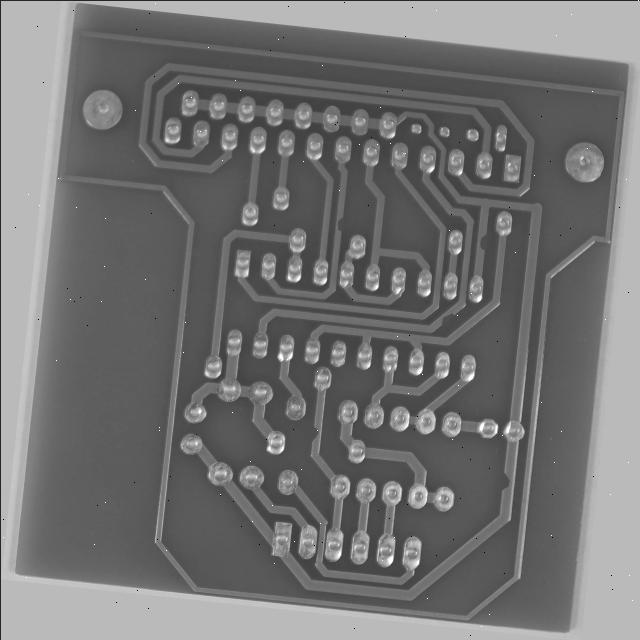mouse_bite: (531, 461, 555, 491), (319, 435, 339, 457), (450, 294, 468, 314), (479, 204, 495, 225), (323, 200, 336, 222)
